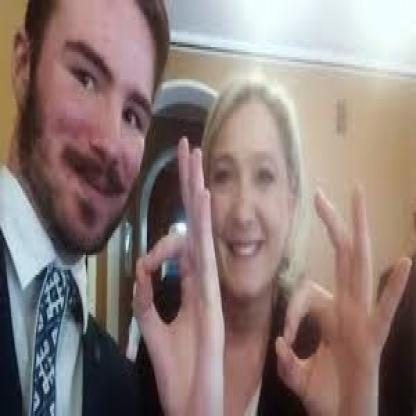ok: (273, 179, 413, 412), (132, 131, 228, 416)
